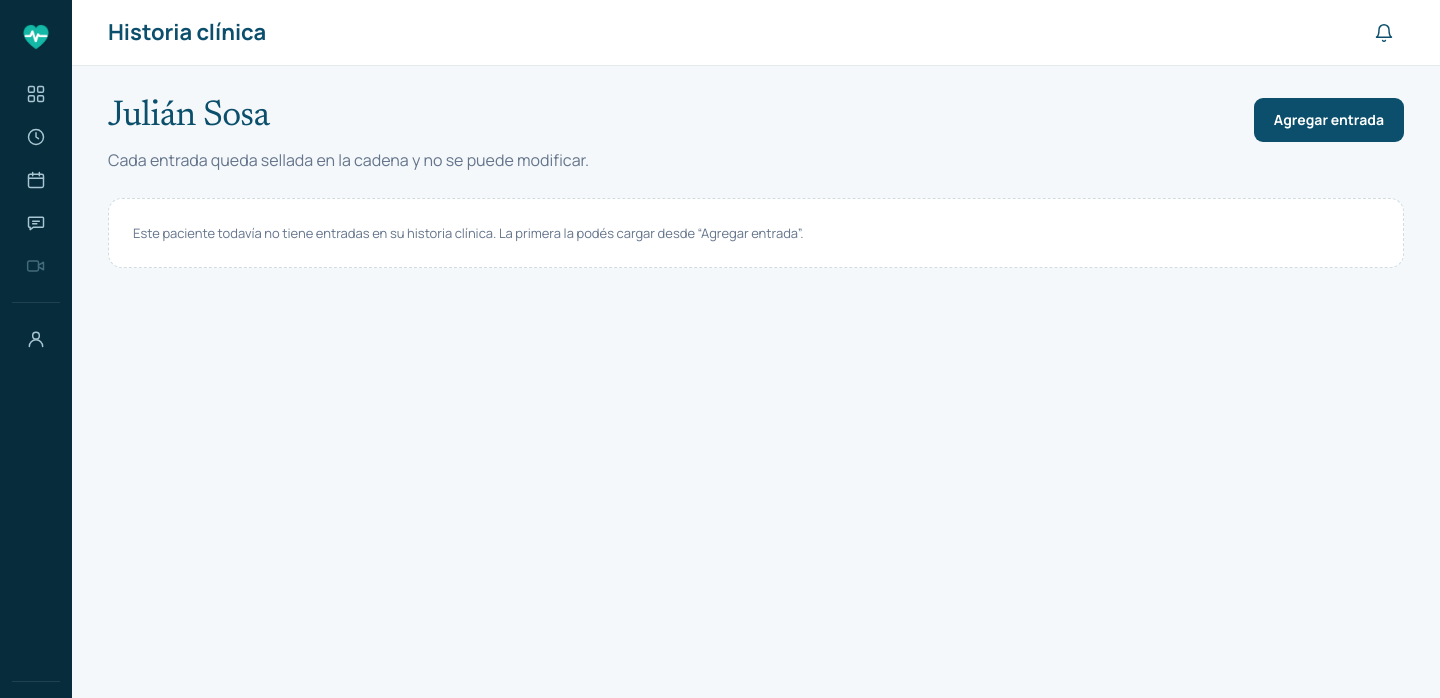
Test case: PatientClinicalRecordPage › el diálogo de alta también lo nombra
The width and height of the screenshot is (1440, 698).
Expected: the heading "Julián Sosa" is shown, x1=108 y1=99 x2=269 y2=135
Click the button "Agregar entrada".
click(1329, 120)  # box x1=1254 y1=98 x2=1404 y2=142
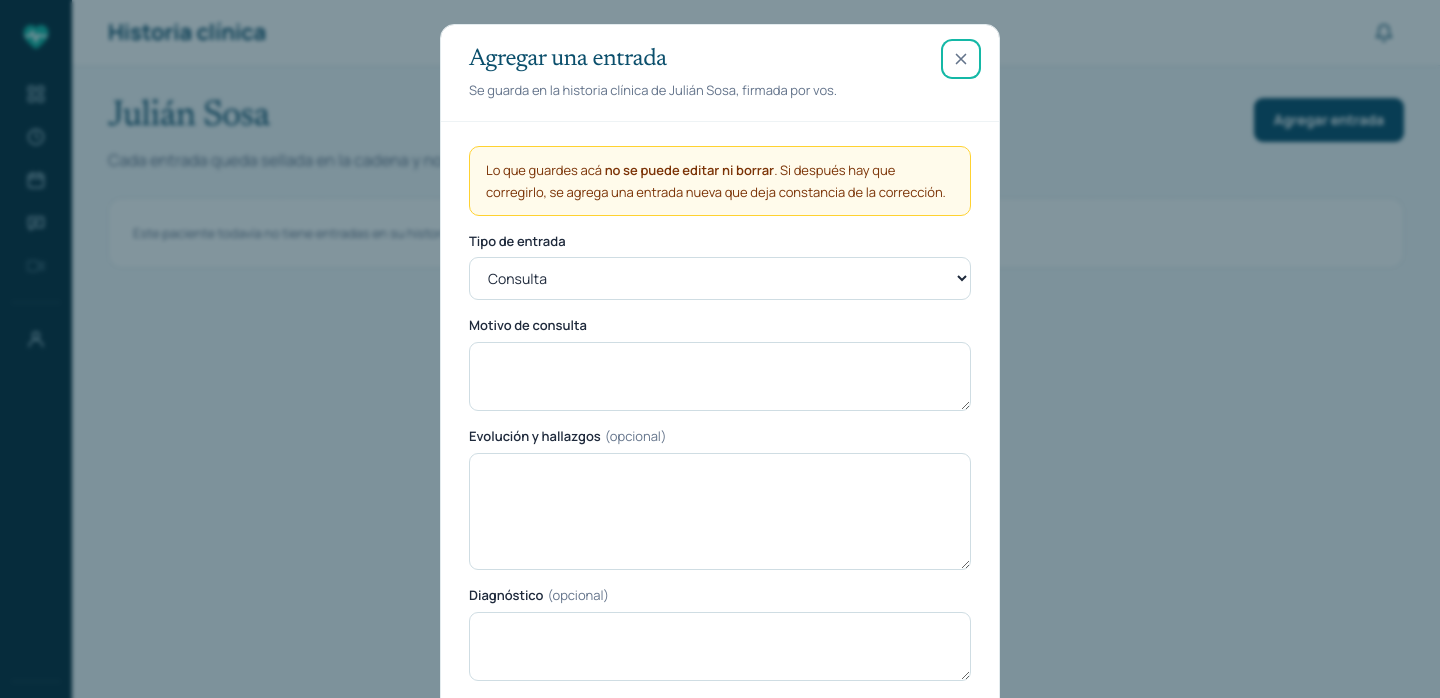
Expected: the text "Se guarda en la historia clínica de Julián Sosa" is shown, x1=469 y1=81 x2=837 y2=99
